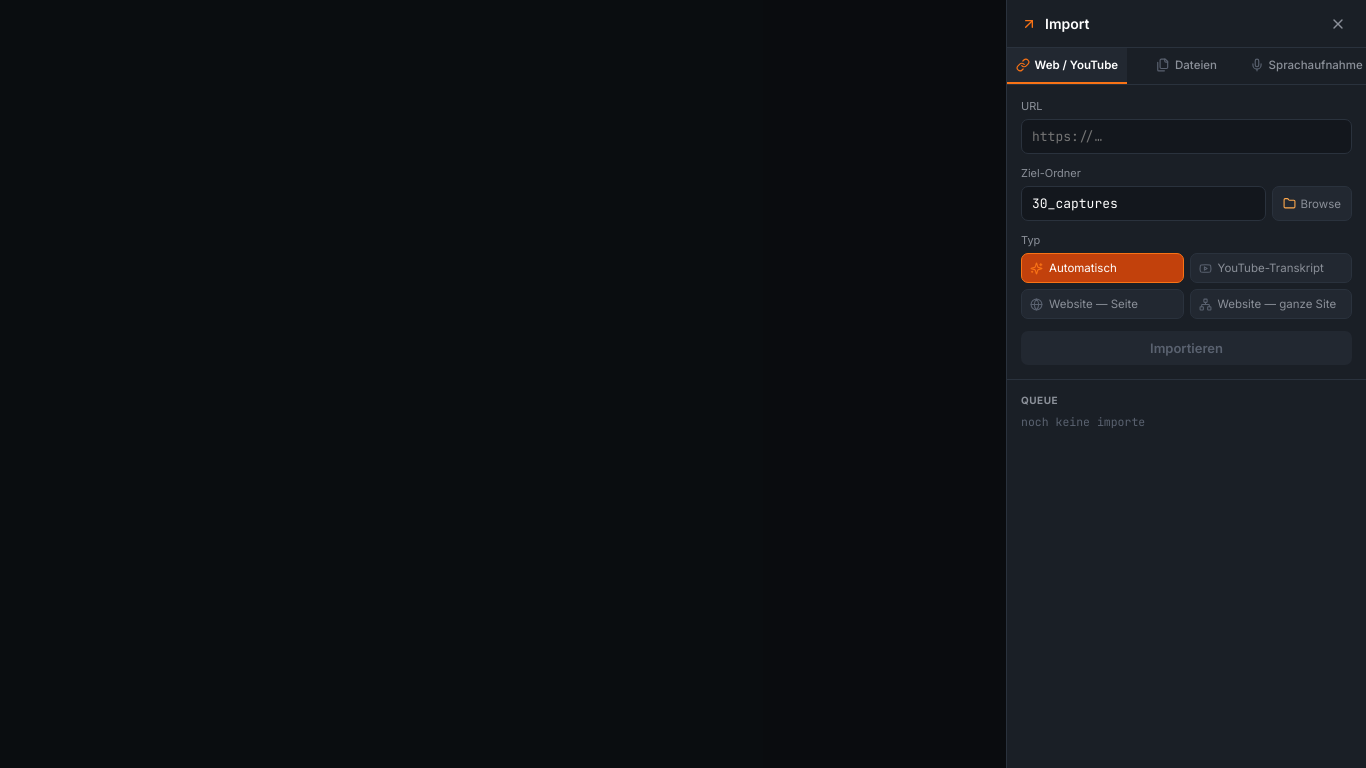
it: ImportPanel — Datei-Import › zeigt den Ordner-Knopf, wo der Browser Verzeichnisse auswählen kann
Click the tab "Dateien".
click(1187, 66)  # box [1127,48,1246,84]
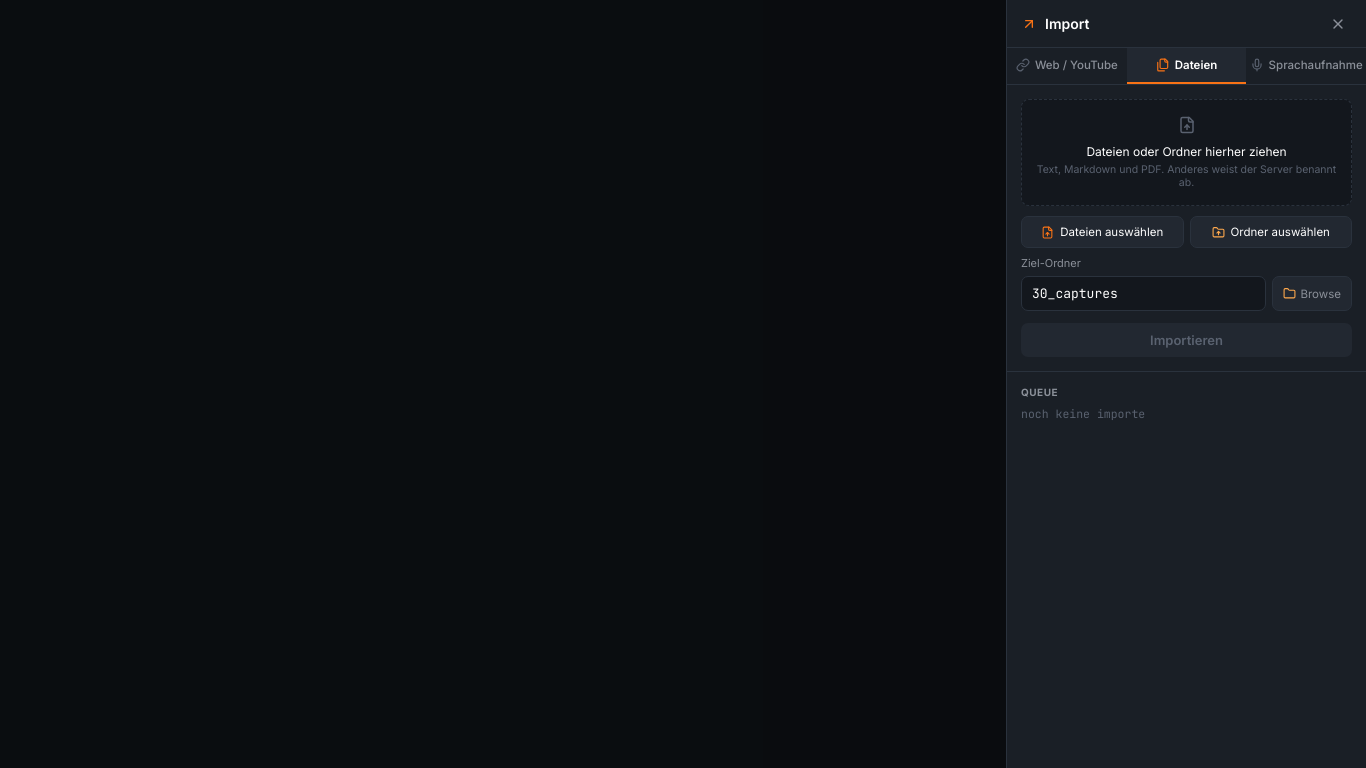
Expected: the button "Ordner auswählen" is shown, [1190,216,1352,248]
